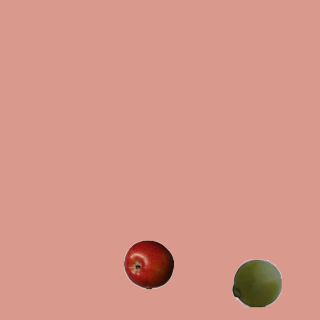Apple Braeburn: (123, 239, 173, 289)
Grape White 4: (231, 257, 281, 307)
